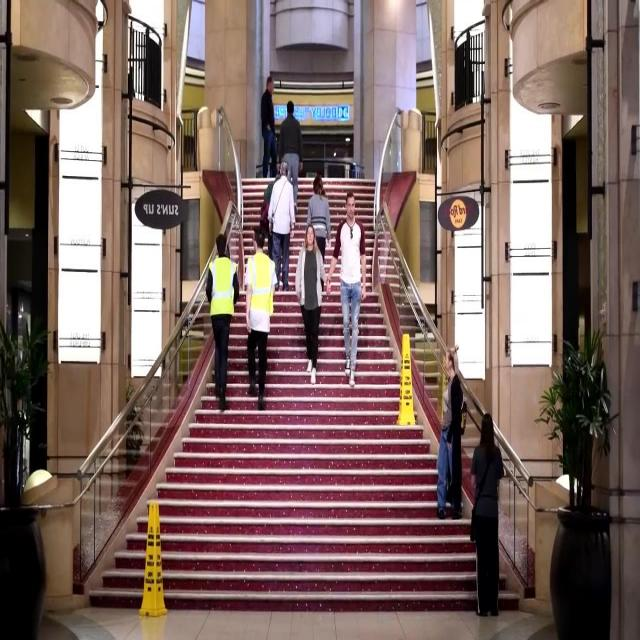Reflective-Jacket: (248, 252, 276, 327), (207, 256, 237, 319)
